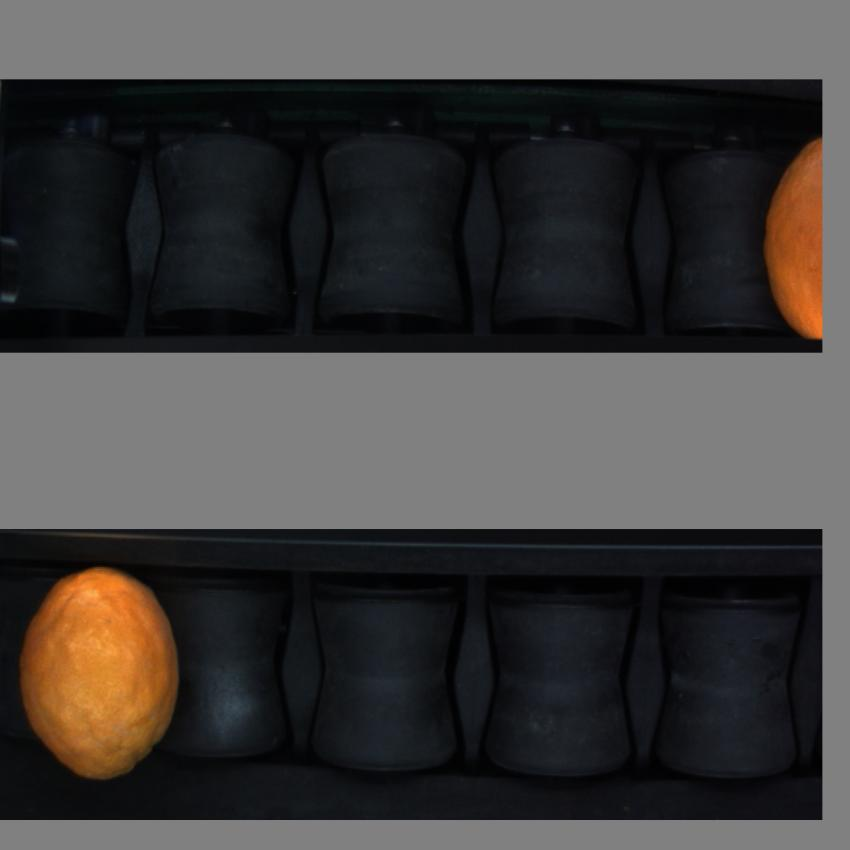Buen estado: (20, 571, 194, 782)
Mal estado: (768, 135, 824, 350)
